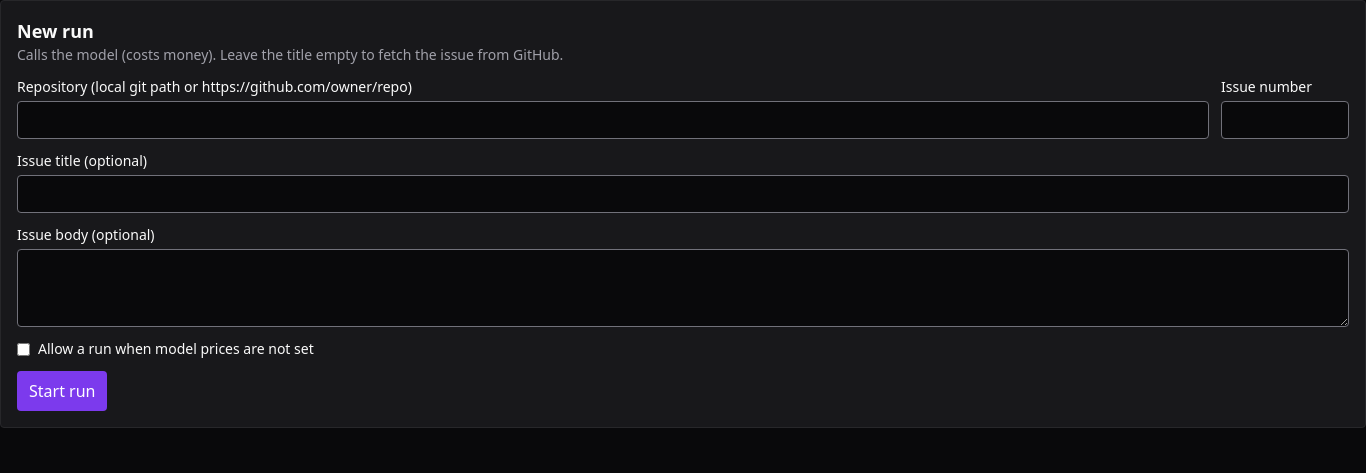
RunForm › validates before sending
Step 1. Type "/r" into the field labelled "Repository (local git path or https://github.com/owner/repo)" → point(613, 120), box top-left (17, 101), bottom-right (1209, 139)
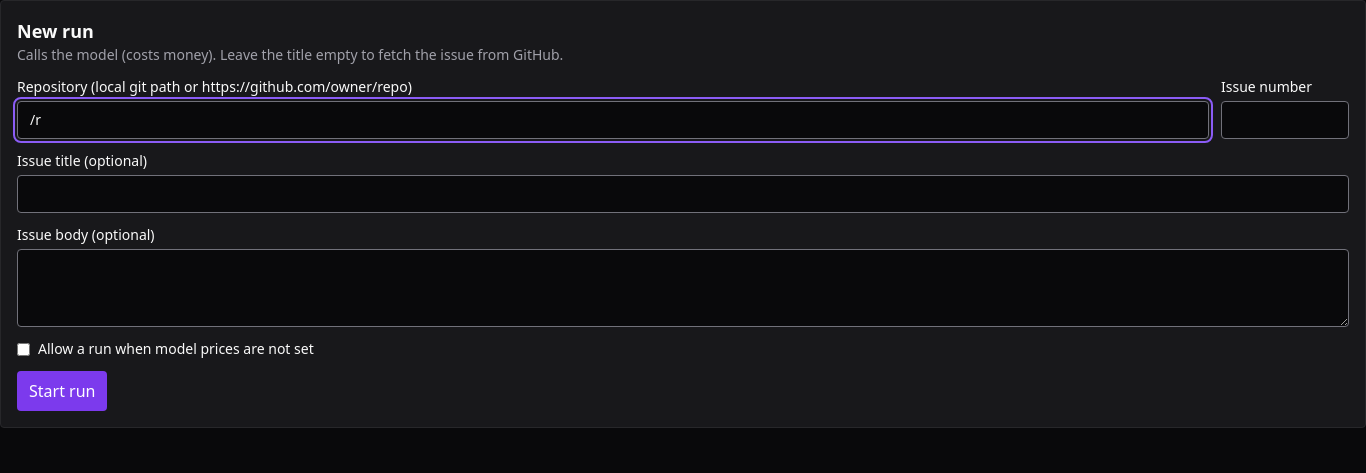
Step 2. Type "0" into the field labelled "Issue number" → point(1285, 120), box top-left (1221, 101), bottom-right (1349, 139)
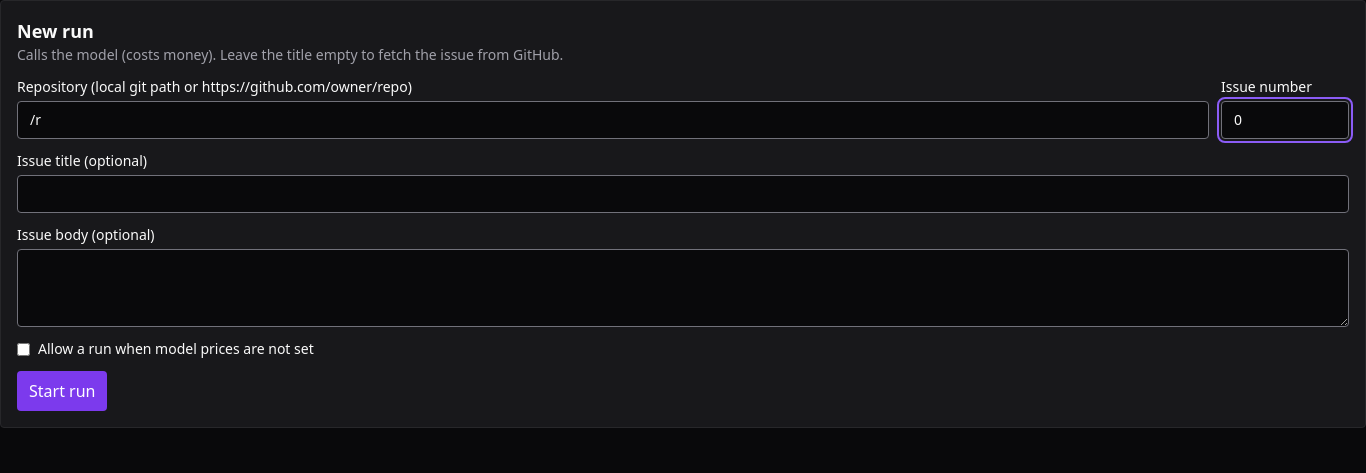
Step 3. Click the button "Start run" → point(62, 391), box top-left (17, 371), bottom-right (108, 411)
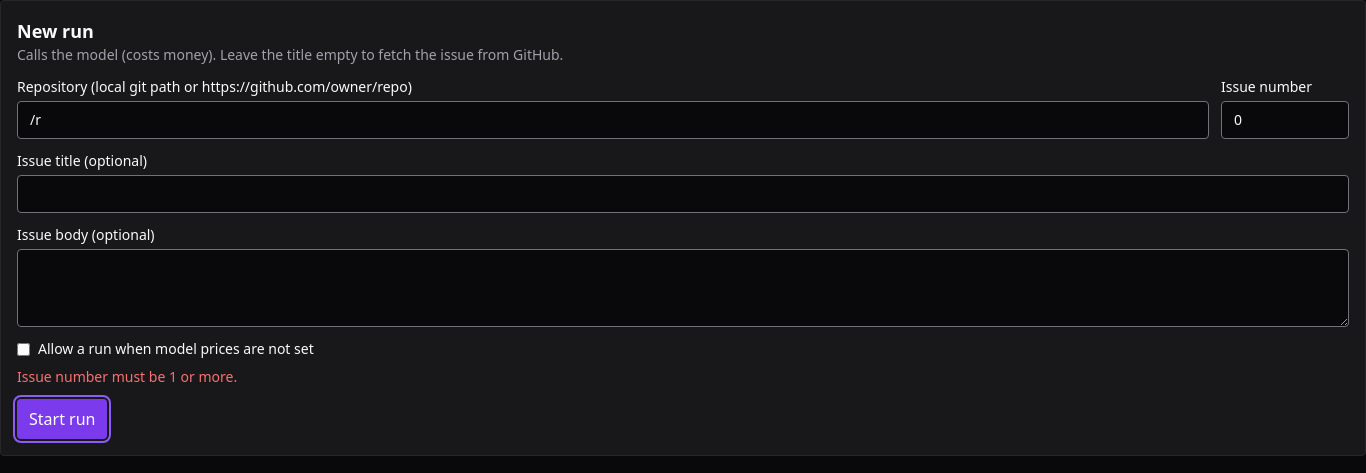
Check: the message shows "1 or more", box top-left (17, 367), bottom-right (237, 386)
Step 4. Replace the text in the field labelled "Issue number" with "2" → point(1285, 120), box top-left (1221, 101), bottom-right (1349, 139)
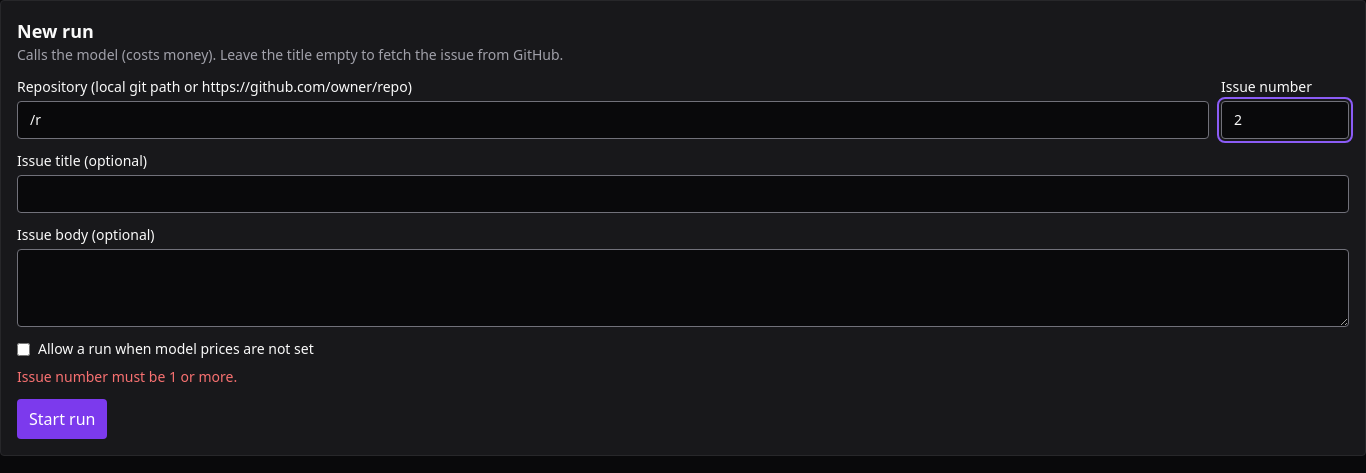
Step 5. Type "body only" into the text box labelled "Issue body (optional)" → point(683, 288), box top-left (17, 249), bottom-right (1349, 327)
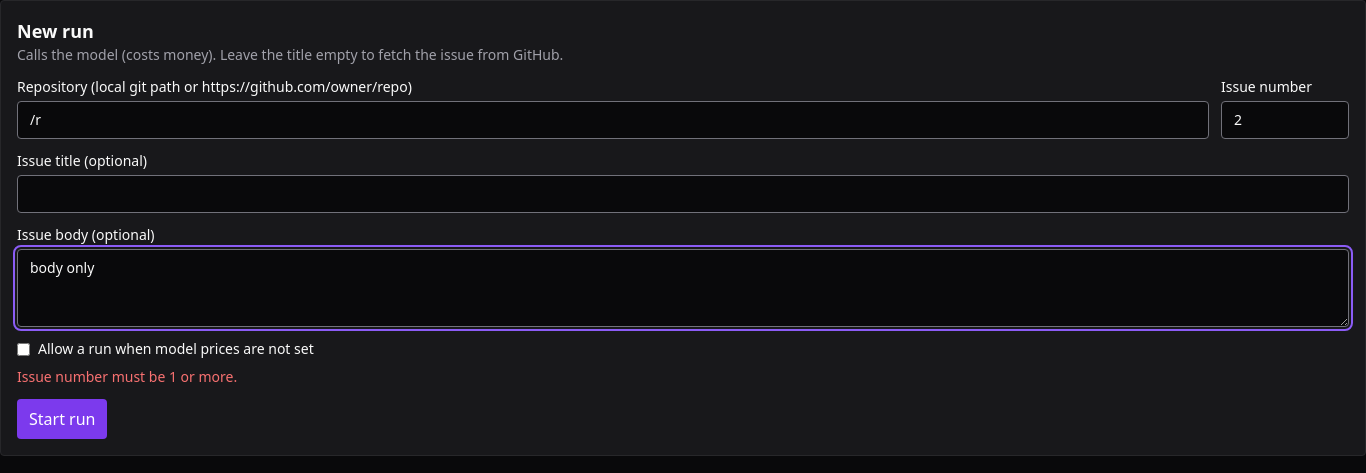
Step 6. Click the button "Start run" → point(62, 419), box top-left (17, 399), bottom-right (108, 439)
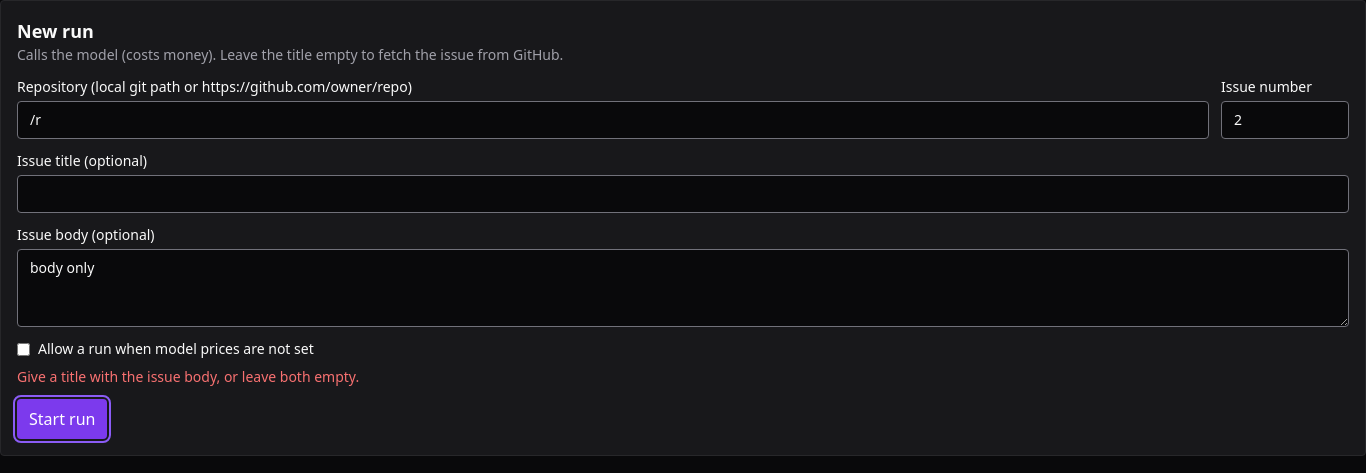
Check: the message shows "title", box top-left (17, 367), bottom-right (359, 386)
